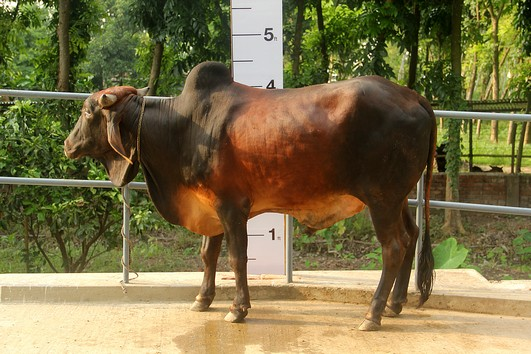cow: (59, 59, 451, 338)
